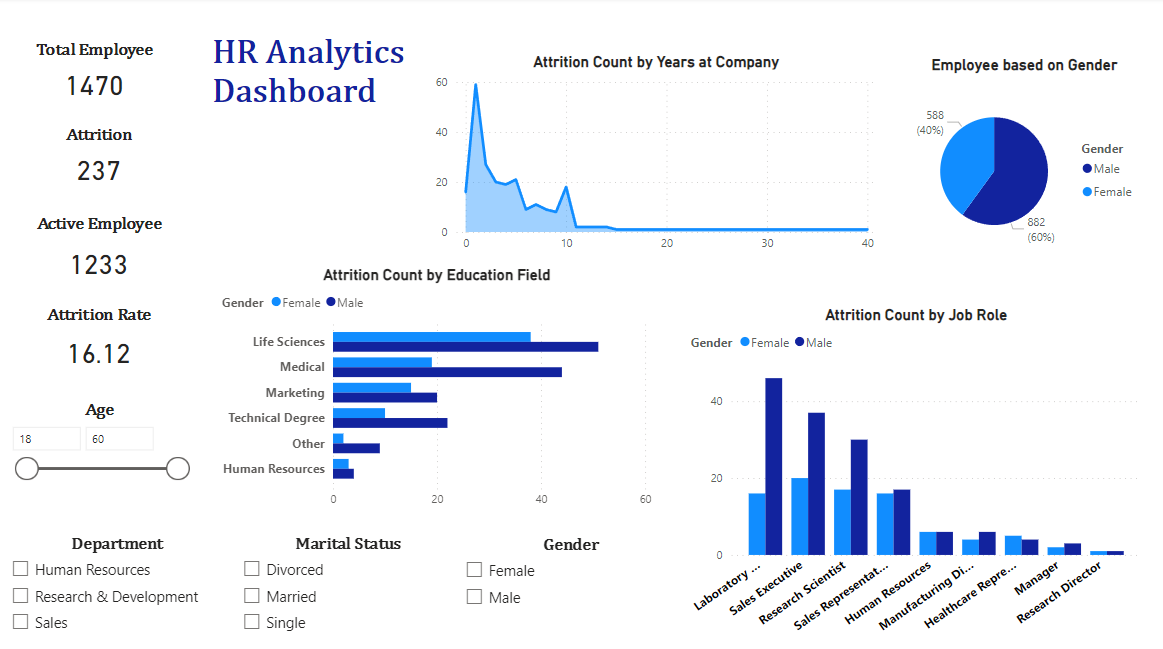

The dashboard page shown, as its layout file describes it:
{"tool":"powerbi","page":{"name":"Page 1","canvas":[1280,720],"ordinal":0},"visuals":[{"type":"card","title":"Total Employee","fields":{"Values":["Sum(hr_employee_attrition.EmployeeCount)"]},"box":[0,48,207.2,75.5],"z":0},{"type":"card","title":"Attrition","fields":{"Values":["hr_employee_attrition.Attrition_Count"]},"box":[0,141.3,216.8,75.5],"z":1000},{"type":"card","title":"Active Employee","fields":{"Values":["hr_employee_attrition.Active Employee"]},"box":[0,238.8,216.8,86.4],"z":2000},{"type":"card","title":"Attrition Rate","fields":{"Values":["hr_employee_attrition.Attrition rate"]},"box":[0,338.9,216.8,82.3],"z":3000},{"type":"pieChart","title":"Employee based on Gender","fields":{"Category":["hr_employee_attrition.Gender"],"Y":["Sum(hr_employee_attrition.EmployeeCount)"]},"box":[990.7,64.5,267.6,234.6],"z":4000},{"type":"slicer","title":"Age","fields":{"Values":["hr_employee_attrition.Age"]},"box":[1.4,443.2,215.4,116.6],"z":5000},{"type":"clusteredColumnChart","title":"Attrition Count by Job Role","fields":{"Category":["hr_employee_attrition.JobRole"],"Series":["hr_employee_attrition.Gender"],"Y":["hr_employee_attrition.Attrition_Count"]},"box":[753.3,338.9,505,370.5],"z":6000},{"type":"slicer","title":"Department","fields":{"Values":["hr_employee_attrition.Department"]},"box":[1.4,590.1,253.9,119.4],"z":7000},{"type":"slicer","title":"Marital Status","fields":{"Values":["hr_employee_attrition.MaritalStatus"]},"box":[255.2,590.1,253.9,119.4],"z":8000},{"type":"slicer","title":"Gender","fields":{"Values":["hr_employee_attrition.Gender"]},"box":[499.5,591.4,253.9,119.4],"z":9000},{"type":"clusteredBarChart","title":"Attrition Count by Education Field","fields":{"Category":["hr_employee_attrition.EducationField"],"Y":["hr_employee_attrition.Attrition_Count"],"Series":["hr_employee_attrition.Gender"]},"box":[238.8,295,481.6,274.4],"z":10000},{"type":"areaChart","title":"Attrition Count by Years at Company","fields":{"Category":["hr_employee_attrition.YearsAtCompany"],"Y":["hr_employee_attrition.Attrition_Count"]},"box":[473.4,60.4,494,227.8],"z":11000},{"type":"textbox","box":[227.8,35.7,245.6,144.1],"z":12000}]}

Visuals, with their boxes in screenshot pixels (x1, y1, x2, y2), scaled from the page's 1280x720 canvas onto the 1163x649 screenshot:
"Total Employee" card: <box>0,43,188,111</box>
"Attrition" card: <box>0,127,197,195</box>
"Active Employee" card: <box>0,215,197,293</box>
"Attrition Rate" card: <box>0,305,197,380</box>
"Employee based on Gender" pieChart: <box>900,58,1143,270</box>
"Age" slicer: <box>1,399,197,505</box>
"Attrition Count by Job Role" clusteredColumnChart: <box>684,305,1143,639</box>
"Department" slicer: <box>1,532,232,640</box>
"Marital Status" slicer: <box>232,532,463,640</box>
"Gender" slicer: <box>454,533,685,641</box>
"Attrition Count by Education Field" clusteredBarChart: <box>217,266,655,513</box>
"Attrition Count by Years at Company" areaChart: <box>430,54,879,260</box>
textbox: <box>207,32,430,162</box>
